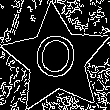O_S: (31, 29, 83, 89)
